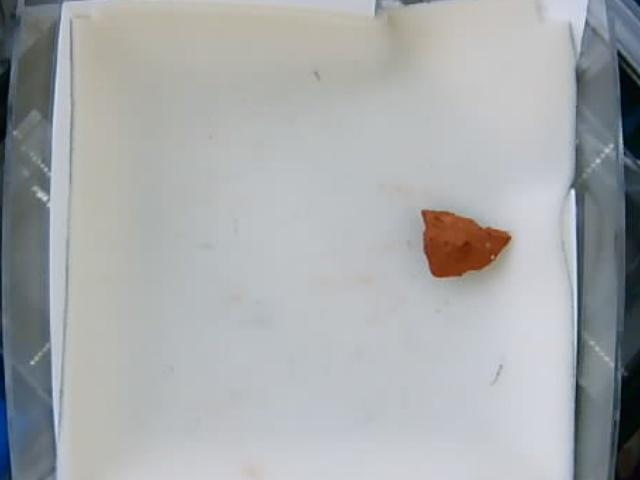Brisk: (420, 208, 517, 274)
